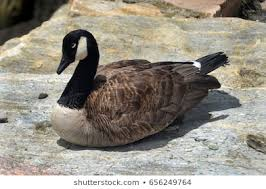goose: (46, 28, 231, 152)
